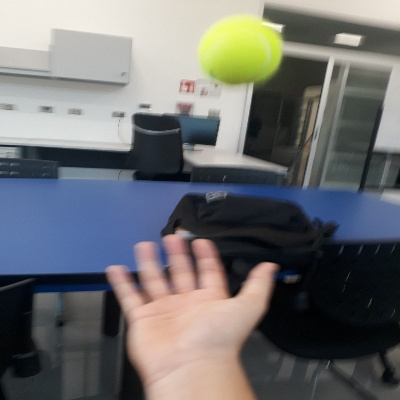Ball: (197, 17, 283, 84)
